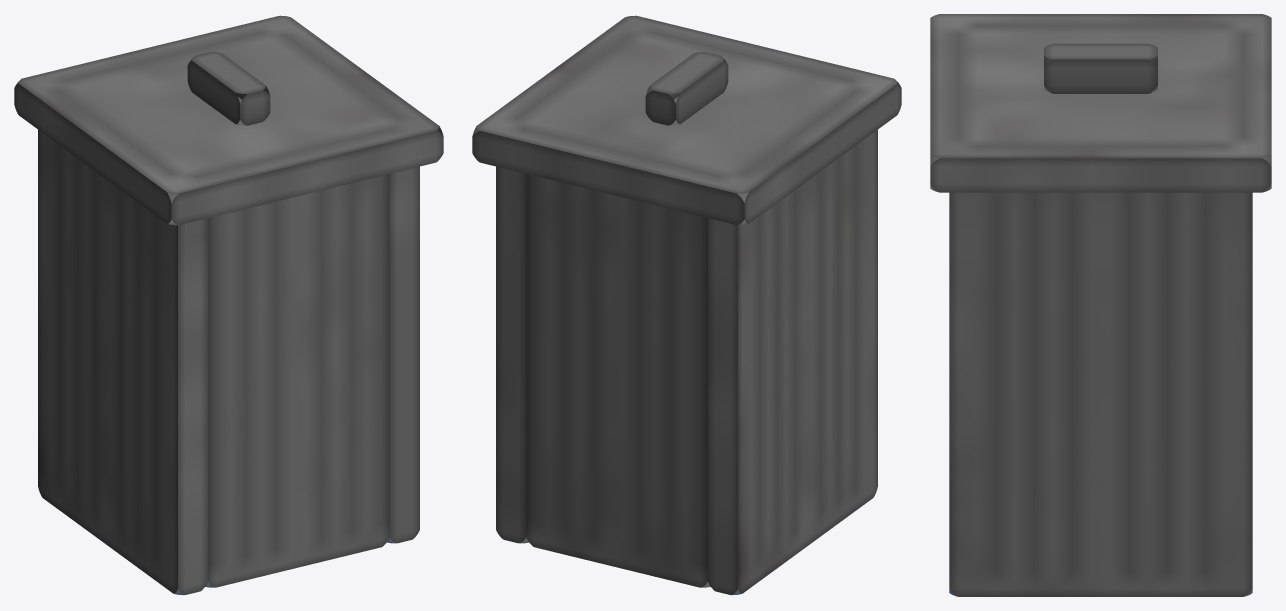
File: TrashcanTEX.fbx
The picture shows the model from 3 angles, left to right: view 1: azimuth 30°, elevation 25°; view 2: azimuth 150°, elevation 25°; view 3: azimuth 270°, elevation 25°; orthographic projection. The views are drawn at different scales.
Visible parts, largest first — view 1: cuboid, cuboid_1; view 2: cuboid, cuboid_1; view 3: cuboid, cuboid_1.
Part boxes in pixels (left/top/right/bottom): cuboid: left=38, top=130, right=419, bottom=595; cuboid_1: left=14, top=15, right=443, bottom=225; cuboid: left=496, top=130, right=877, bottom=595; cuboid_1: left=472, top=15, right=901, bottom=225; cuboid: left=949, top=192, right=1252, bottom=596; cuboid_1: left=930, top=14, right=1271, bottom=192.
Bounding box in the file's own units: 112 × 175 × 112.
Materials: 1 (1 with a texture image).
